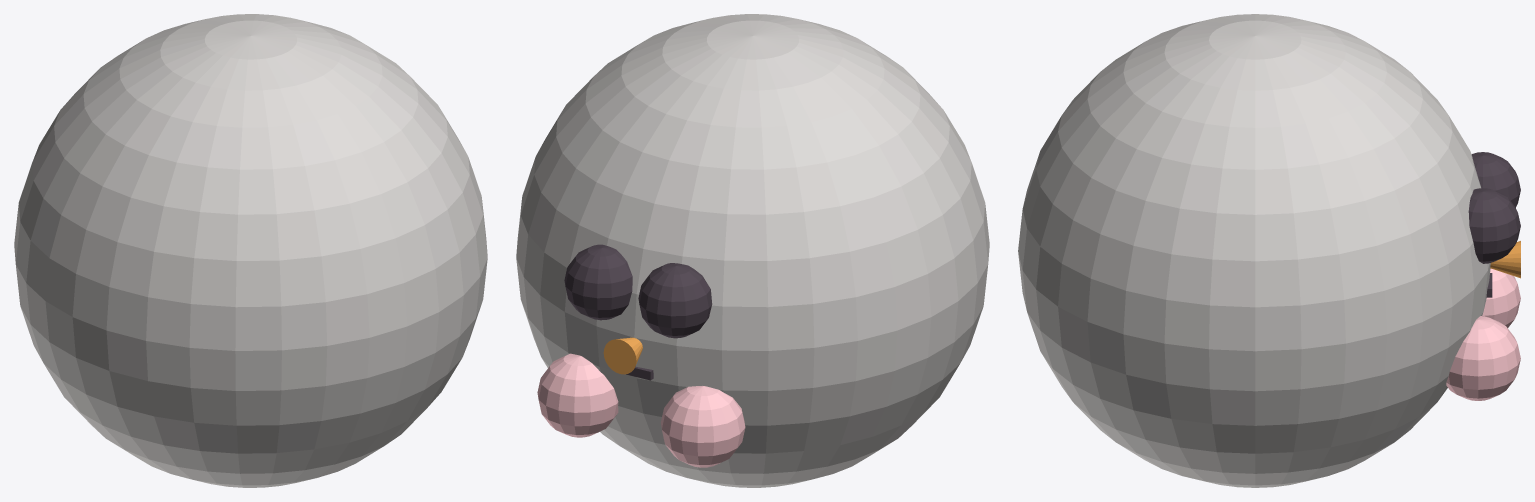
The model's file is snowball_cute.glb.
The picture shows the model from 3 angles, left to right: view 1: azimuth 30°, elevation 25°; view 2: azimuth 150°, elevation 25°; view 3: azimuth 270°, elevation 25°; orthographic projection.
Parts seen in each view (by area): view 1: Sphere; view 2: Sphere, Sphere.003, Sphere.004, Sphere.001, Sphere.002, Cone; view 3: Sphere, Sphere.004, Sphere.002, Sphere.001, Sphere.003, Cone.
Part boxes in pixels (box(x1,y1,x2,y2)): Sphere: box(14, 14, 487, 487); Sphere: box(516, 14, 989, 487); Sphere.003: box(660, 386, 745, 467); Sphere.004: box(537, 353, 618, 437); Sphere.001: box(638, 263, 712, 338); Sphere.002: box(564, 244, 632, 320); Cone: box(603, 337, 642, 374); Sphere: box(1018, 14, 1490, 487); Sphere.004: box(1446, 316, 1520, 400); Sphere.002: box(1468, 188, 1520, 263); Sphere.001: box(1471, 152, 1520, 207); Sphere.003: box(1482, 268, 1520, 327); Cone: box(1490, 241, 1520, 278).
Bounding box in the file's own units: 1 × 1 × 1.06.
